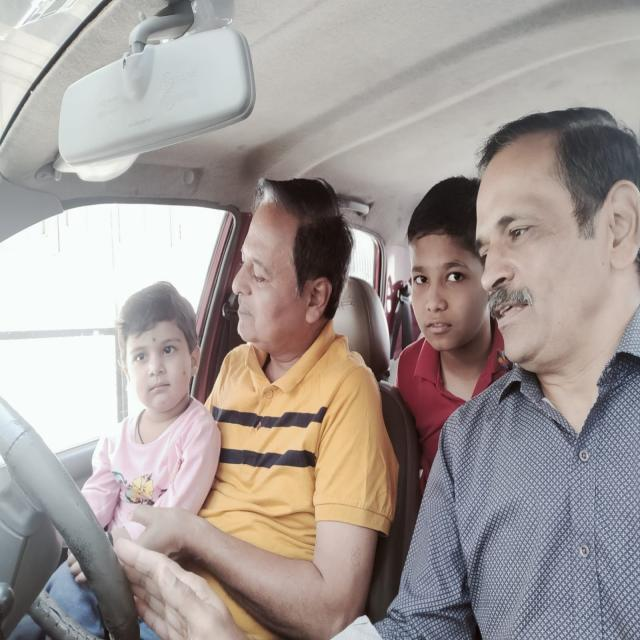child: (114, 294, 203, 414)
person: (478, 127, 632, 370), (230, 175, 347, 350), (399, 180, 490, 354)
